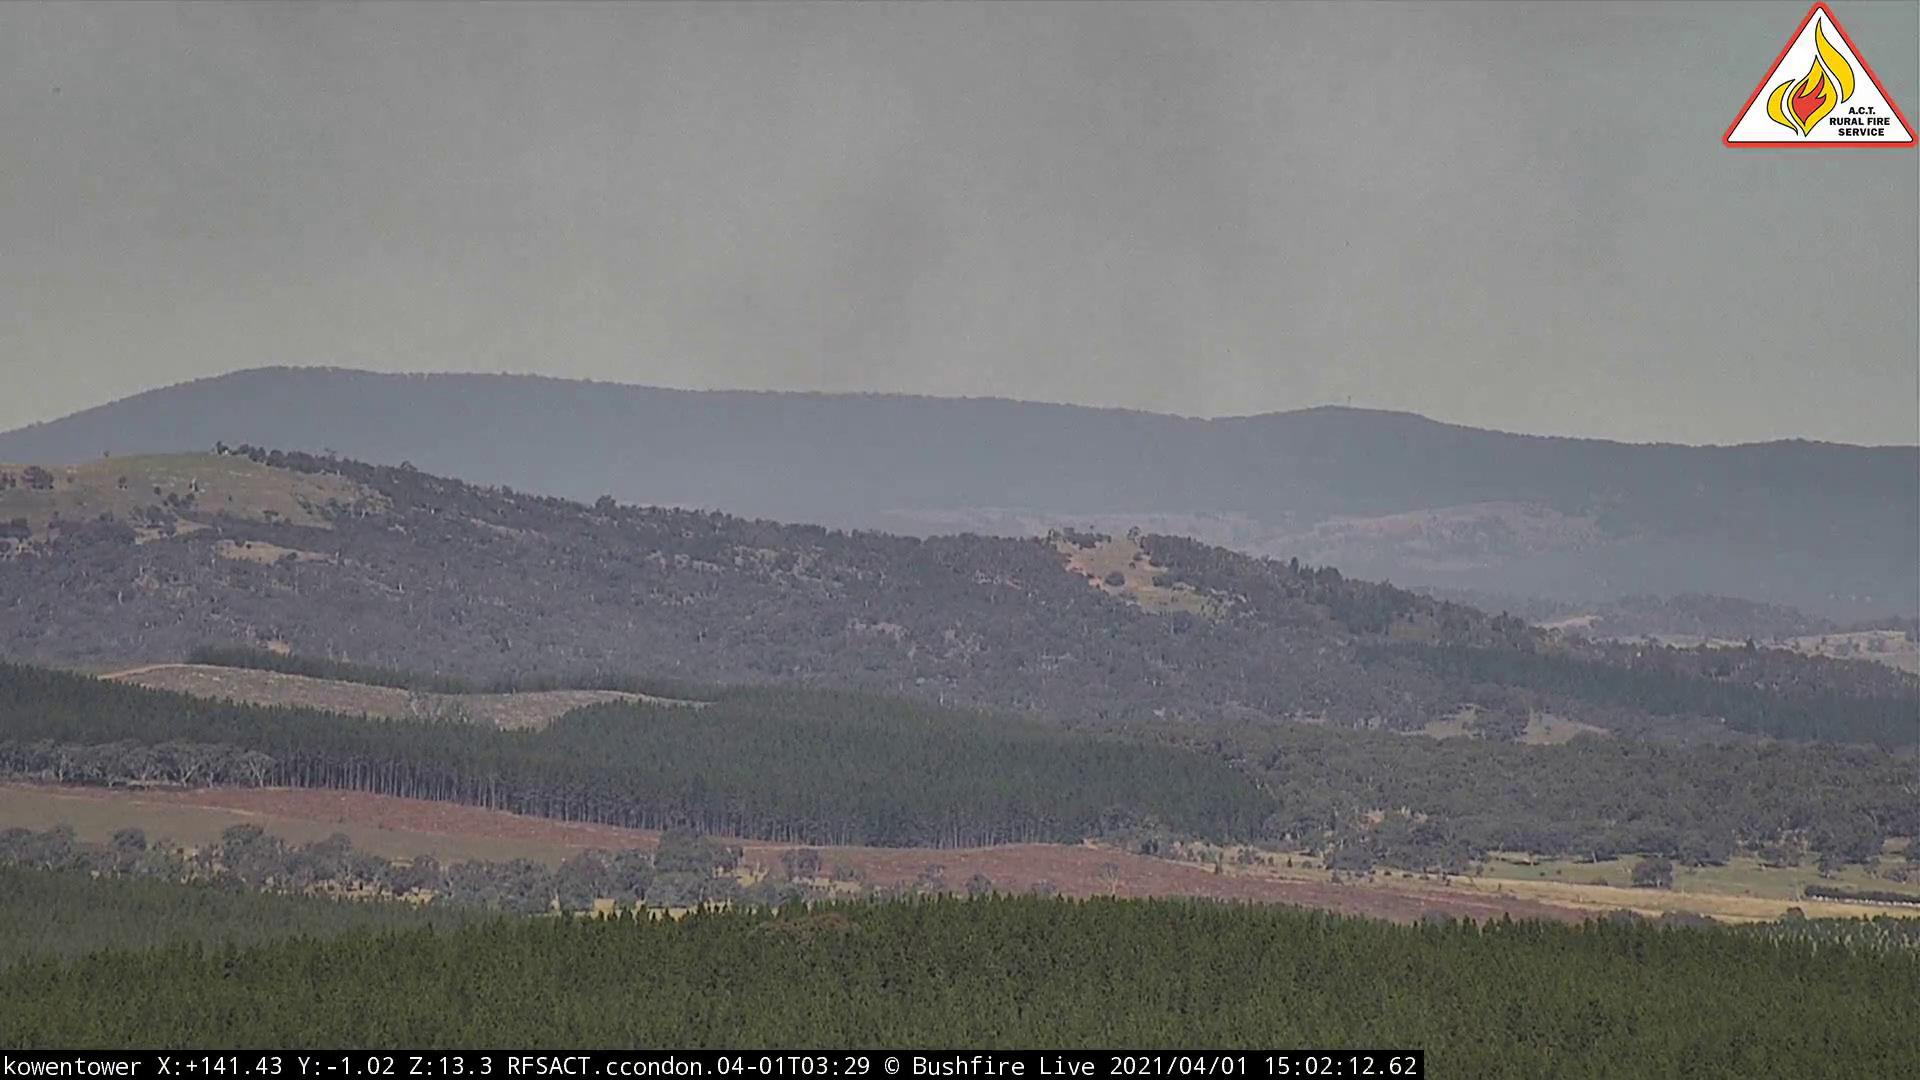Smoke: (224, 18, 1627, 411)
